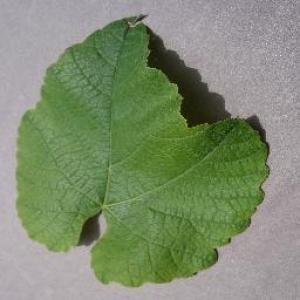Folha: (14, 13, 270, 287)
